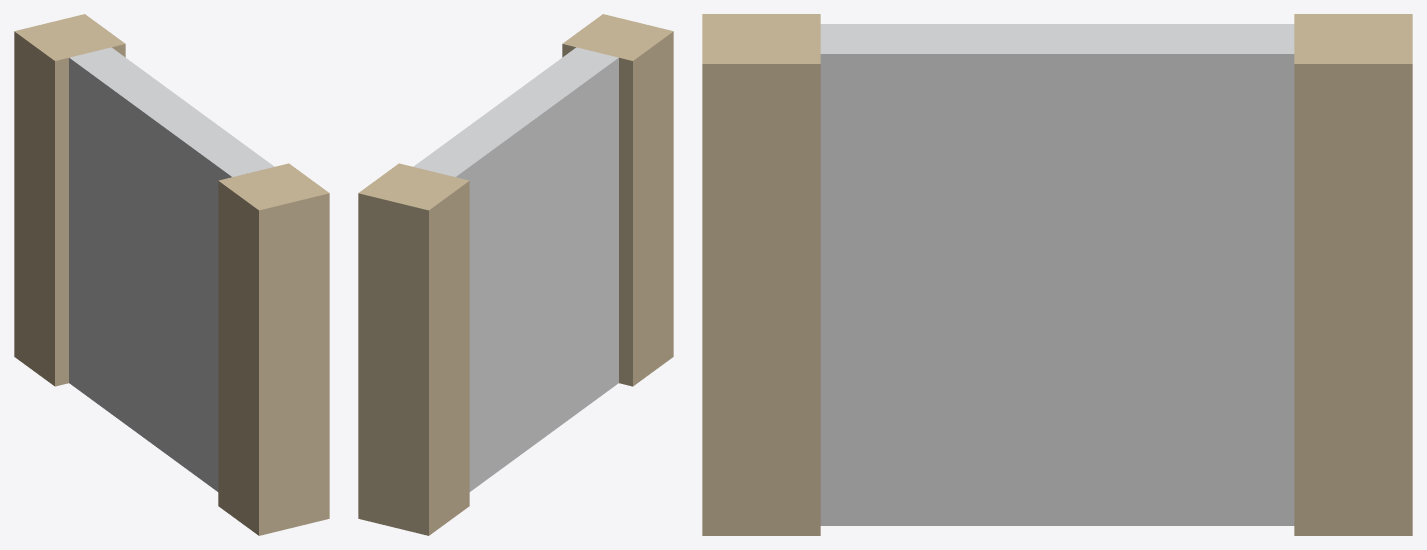
The model's file is Wood_Wall_01.glb.
The picture shows the model from 3 angles, left to right: view 1: azimuth 30°, elevation 25°; view 2: azimuth 150°, elevation 25°; view 3: azimuth 270°, elevation 25°; orthographic projection. The views are drawn at different scales.
Parts seen in each view (by area): view 1: Wood_Wall_01; view 2: Wood_Wall_01; view 3: Wood_Wall_01.
Part boxes in pixels (box(x1,y1,x2,y2)): Wood_Wall_01: box(14, 14, 329, 535); Wood_Wall_01: box(358, 14, 673, 535); Wood_Wall_01: box(702, 14, 1412, 535).
Size of the model in its own units: 0.5001 by 2.2 by 3.
